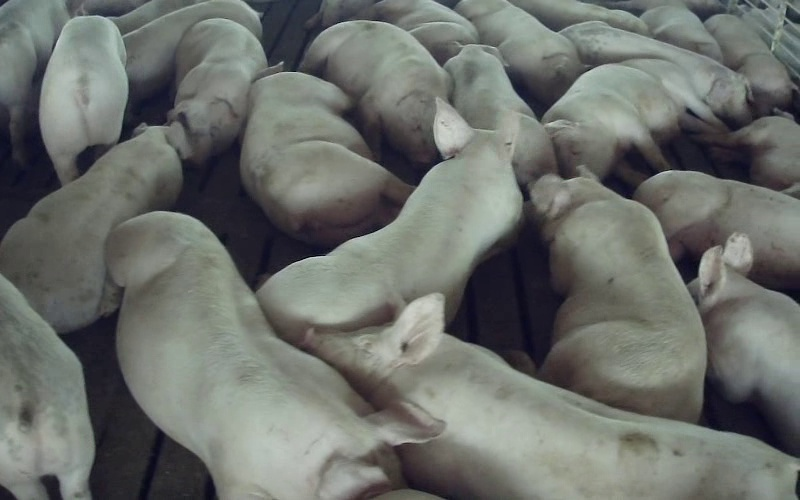pig: (306, 294, 799, 499), (106, 212, 441, 499), (259, 98, 522, 344), (505, 166, 706, 421), (0, 122, 189, 332), (240, 64, 412, 245), (688, 233, 799, 455), (542, 59, 727, 185), (300, 20, 450, 166), (561, 21, 750, 128), (634, 171, 799, 288), (444, 44, 557, 185), (39, 16, 127, 184), (168, 19, 267, 165), (455, 0, 584, 106), (694, 110, 799, 198), (704, 14, 792, 116), (354, 0, 478, 64), (509, 0, 648, 35), (640, 5, 722, 62)
